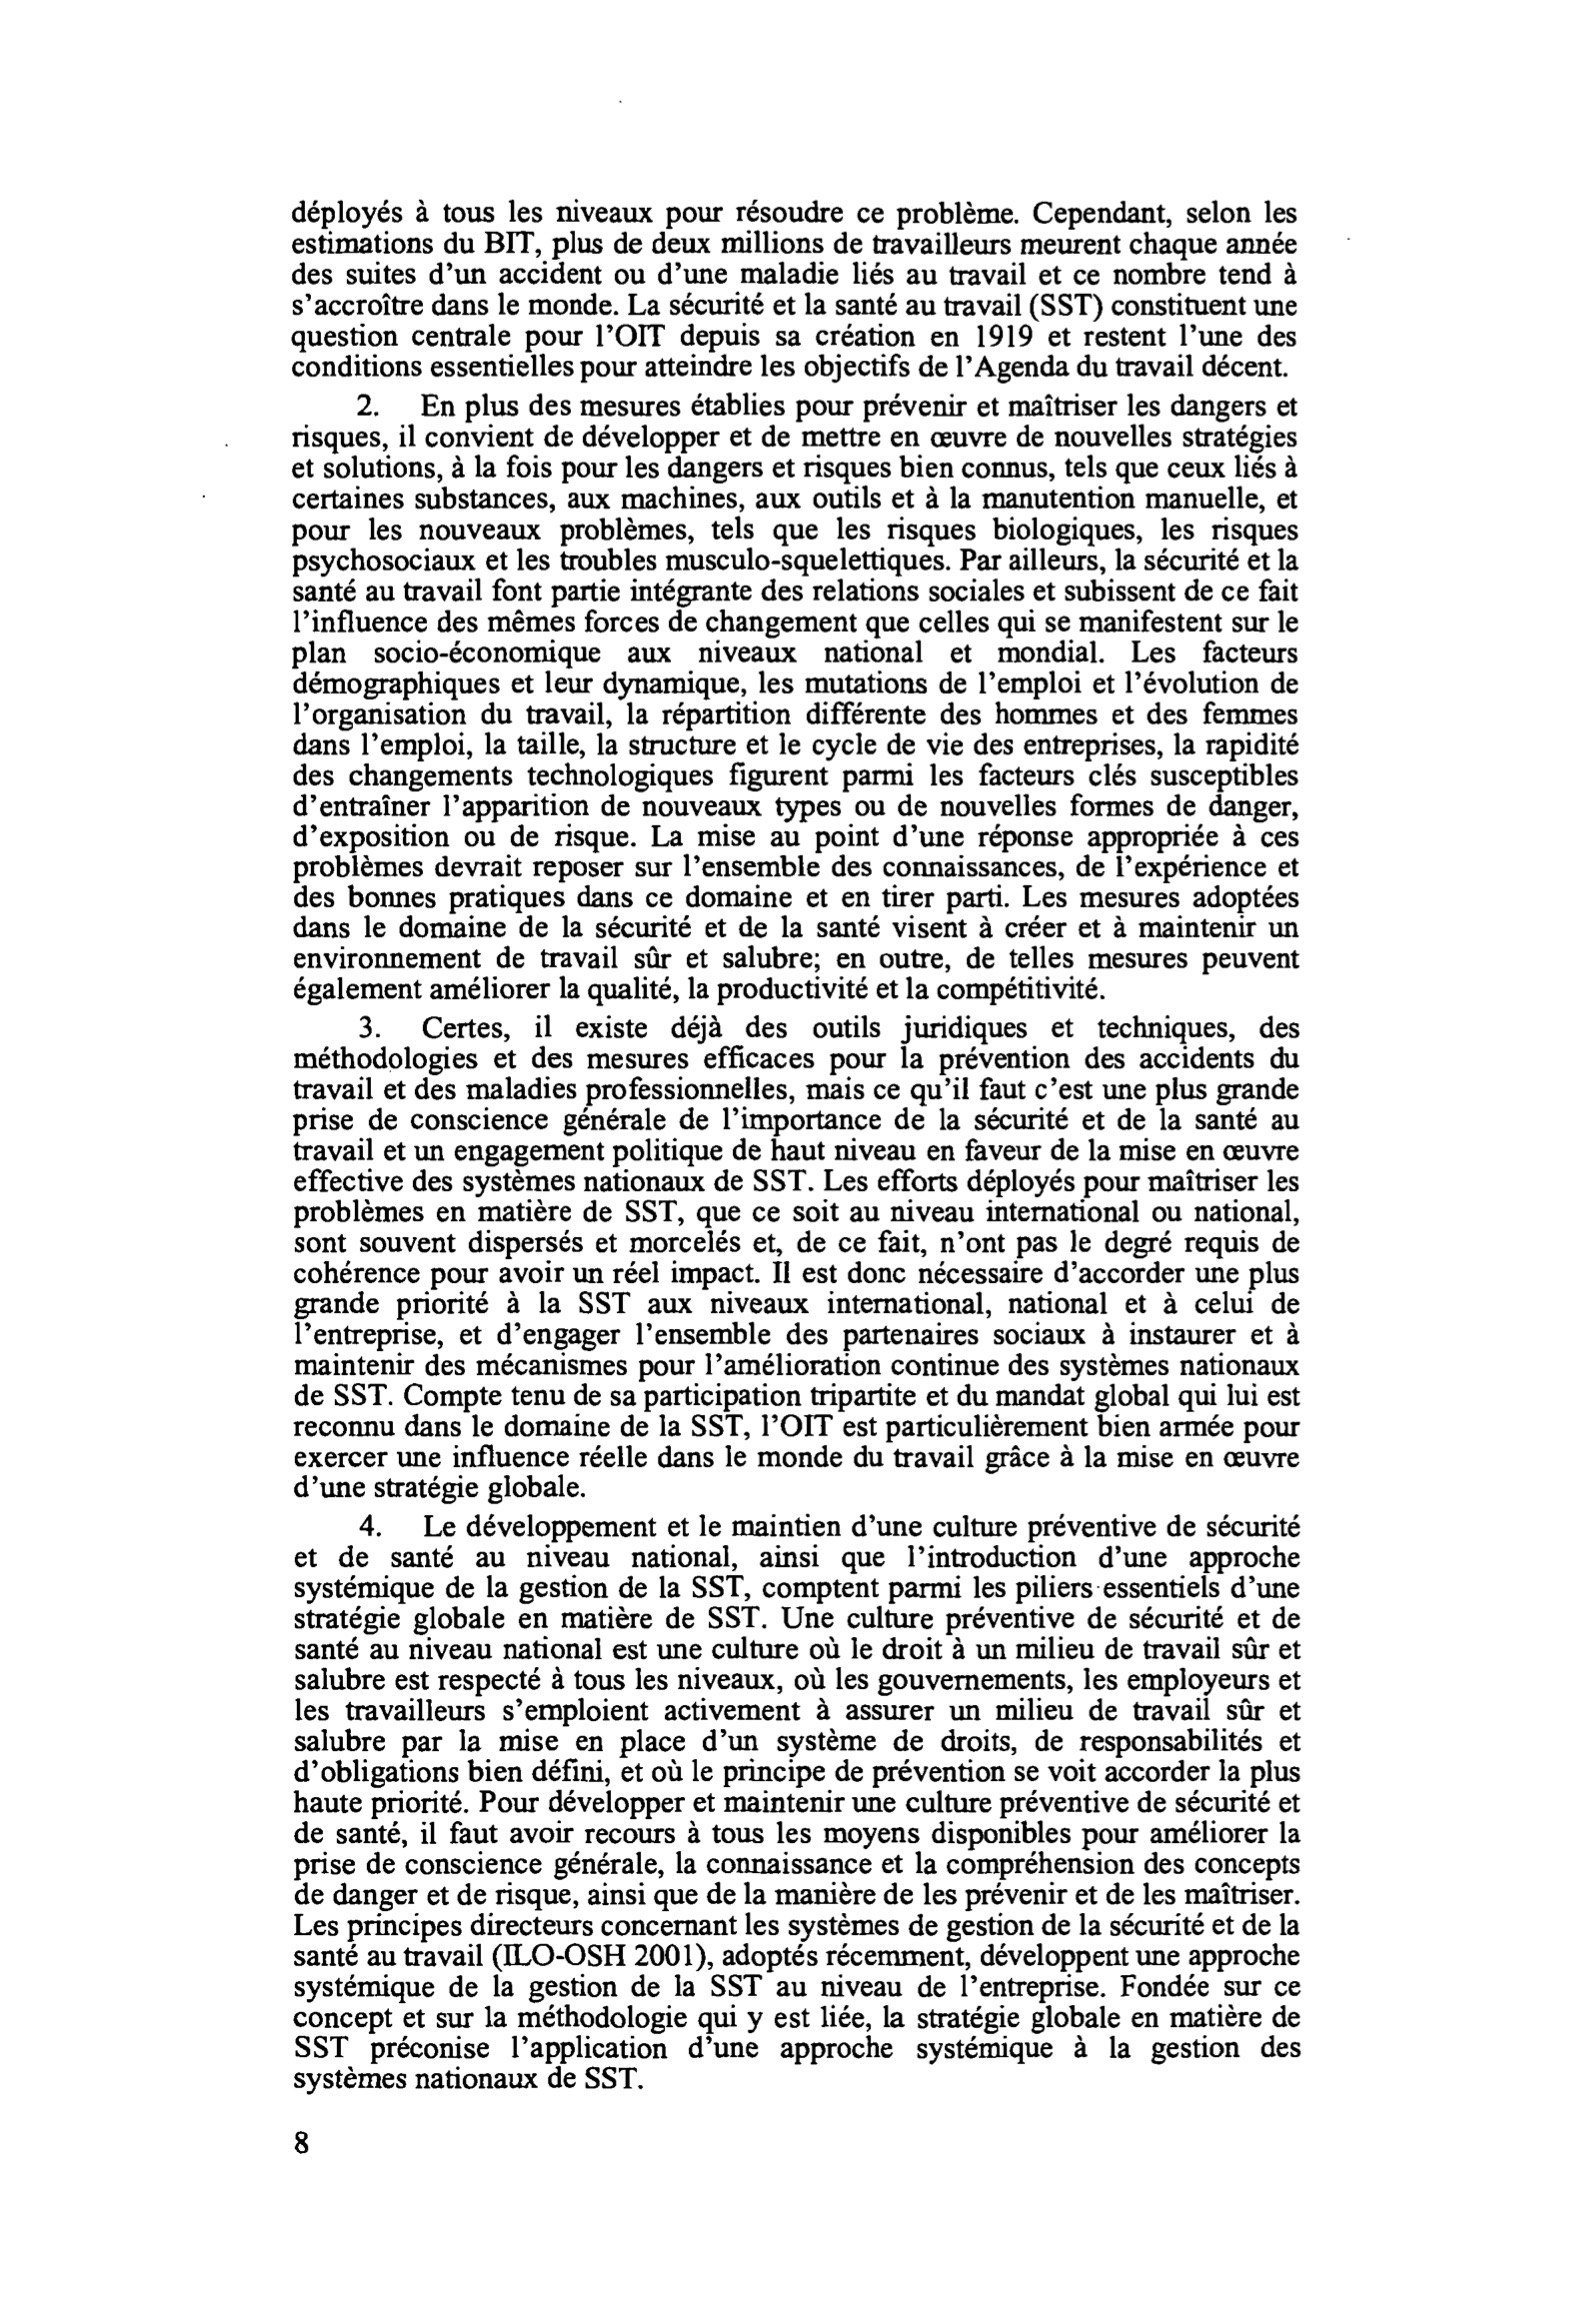MainZone-Continued: (276, 194, 1309, 385)
MainZone-ListItem: (280, 385, 1313, 1007), (283, 1506, 1313, 2101), (285, 1007, 1313, 1503)
NumberingZone: (285, 2121, 318, 2166)
